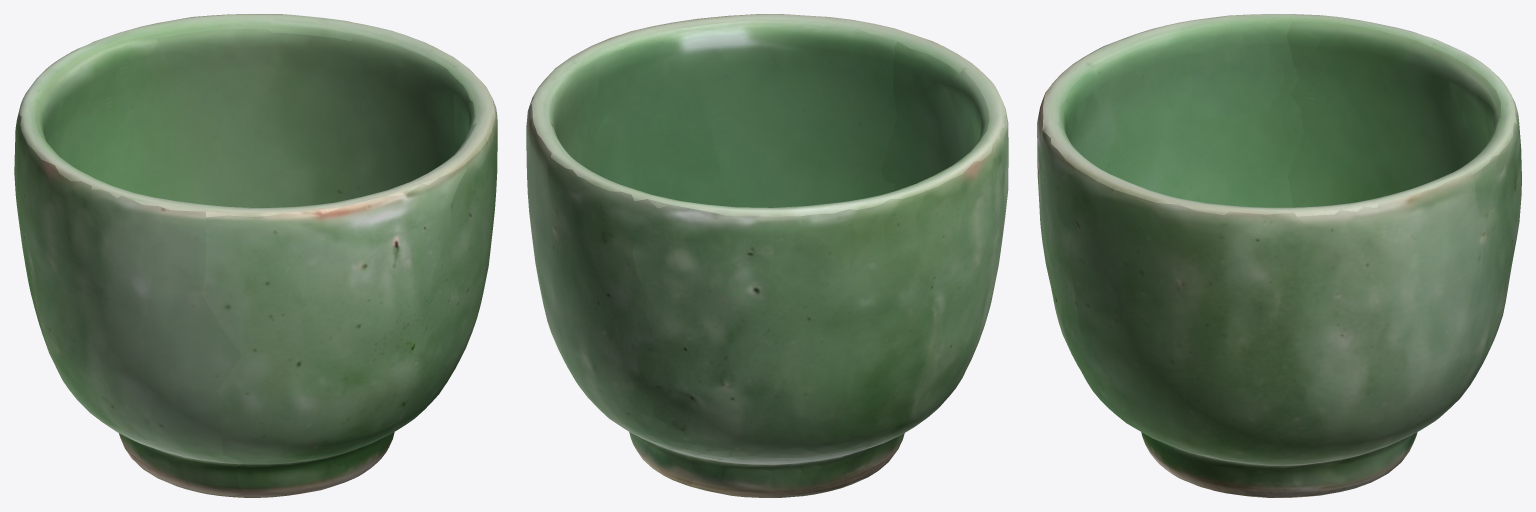
File: model_glb.glb
3 renders of one model, left to right at view 1: azimuth 30°, elevation 25°; view 2: azimuth 150°, elevation 25°; view 3: azimuth 270°, elevation 25°, orthographic.
Visible parts, largest first — view 1: geometry_0; view 2: geometry_0; view 3: geometry_0.
Boxes of the visible parts, x1,y1,x2,y2 form: geometry_0: (14, 14, 497, 497); geometry_0: (526, 14, 1008, 497); geometry_0: (1037, 14, 1521, 497).
Bounding box in the file's own units: 0.11 × 0.0838 × 0.1104.
Materials: 1 (1 with a texture image).
